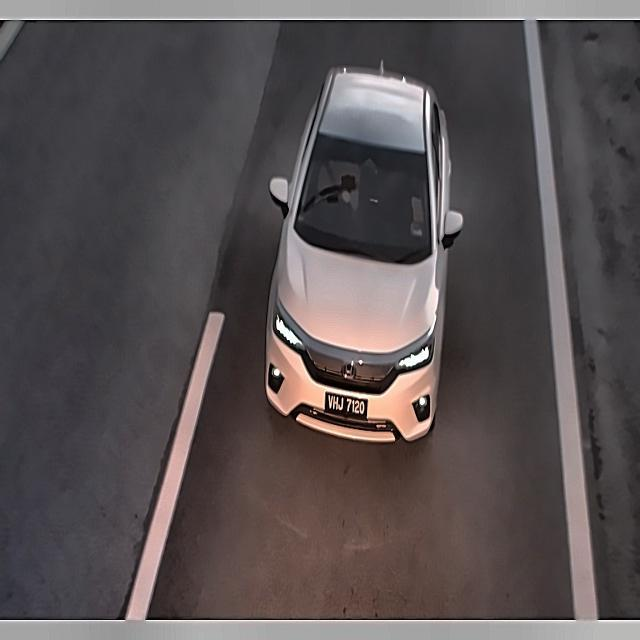car: (316, 382, 375, 429)
